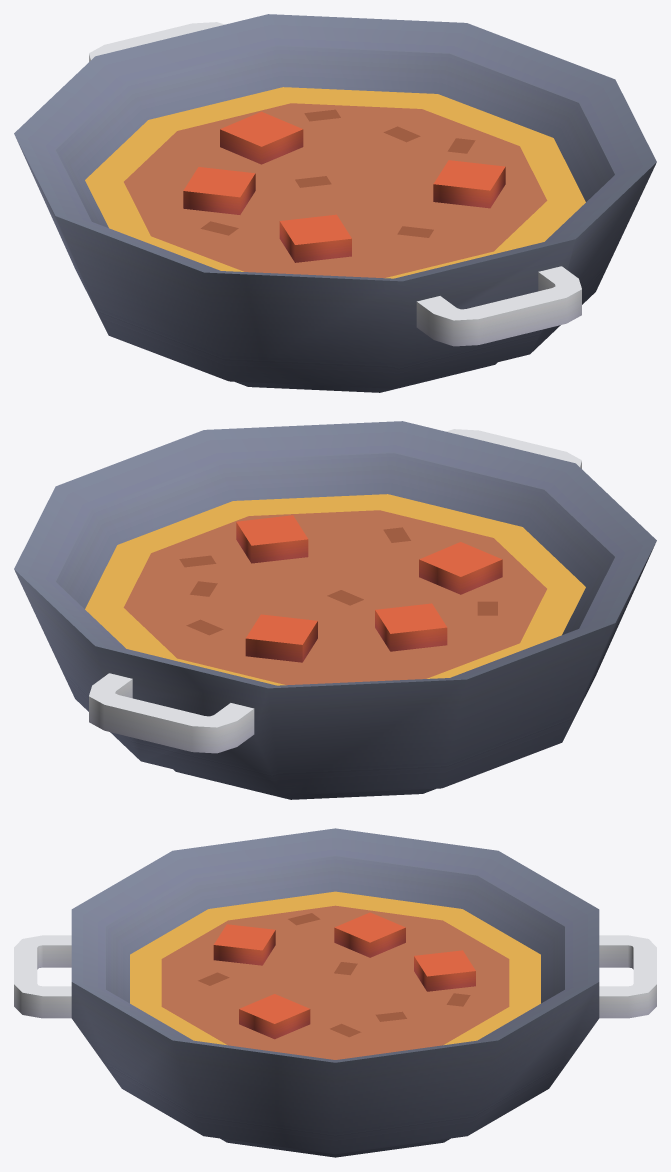
The model's file is kenney-food-pan-stew.glb.
3 views of the same model, one above another, from view 1: azimuth 30°, elevation 25°; view 2: azimuth 150°, elevation 25°; view 3: azimuth 270°, elevation 25° (orthographic). The views are drawn at different scales.
Parts seen in each view (by area): view 1: pan-stew; view 2: pan-stew; view 3: pan-stew.
Boxes of the visible parts, x1=… form: pan-stew: x1=14, y1=14, x2=656, y2=392; pan-stew: x1=14, y1=421, x2=656, y2=799; pan-stew: x1=14, y1=828, x2=656, y2=1157.
Bounding box in the file's own units: 0.6574 × 0.1754 × 0.7621.
1 material, 1 textured.
